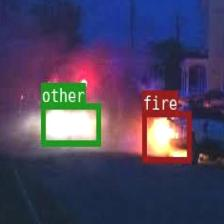fire: (141, 110, 190, 162)
